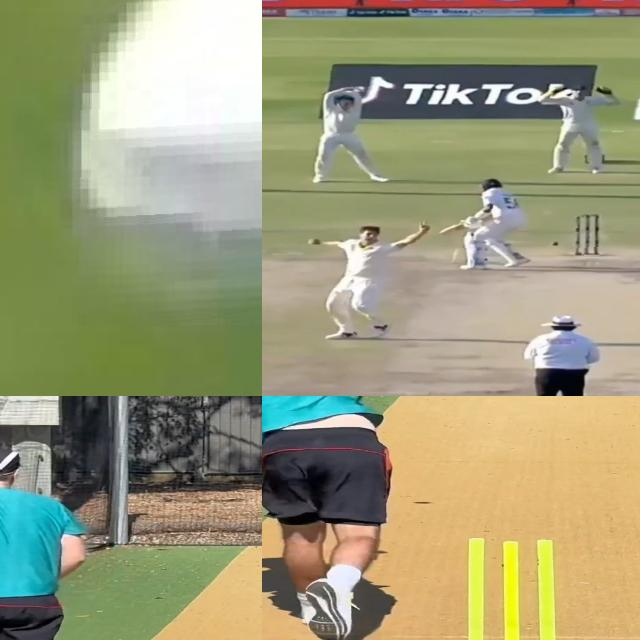Cricket ball: (72, 0, 262, 326), (550, 241, 560, 246)
Stumps: (448, 535, 575, 640), (574, 214, 601, 257)
